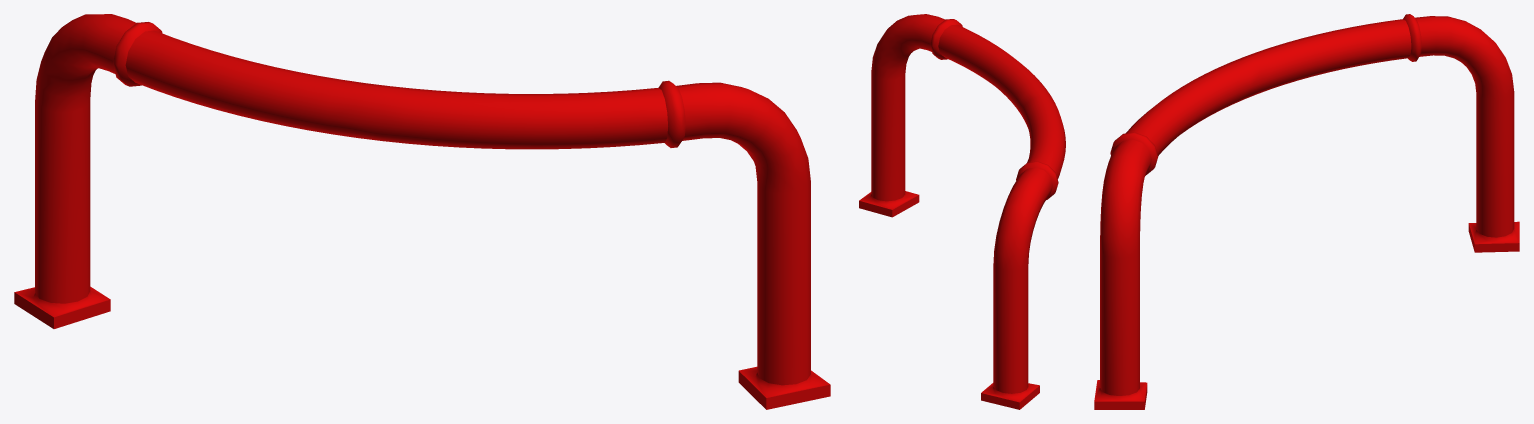
The picture shows the model from 3 angles, left to right: view 1: azimuth 30°, elevation 25°; view 2: azimuth 150°, elevation 25°; view 3: azimuth 270°, elevation 25°; orthographic projection. The views are drawn at different scales.
Visible parts, largest first — view 1: Mesh; view 2: Mesh; view 3: Mesh.
Boxes of the visible parts, left/top/right/bottom form: Mesh: left=14, top=14, right=830, bottom=409; Mesh: left=859, top=14, right=1065, bottom=409; Mesh: left=1094, top=14, right=1519, bottom=409.
Bounding box in the file's own units: 1.1 × 0.6585 × 1.1.
